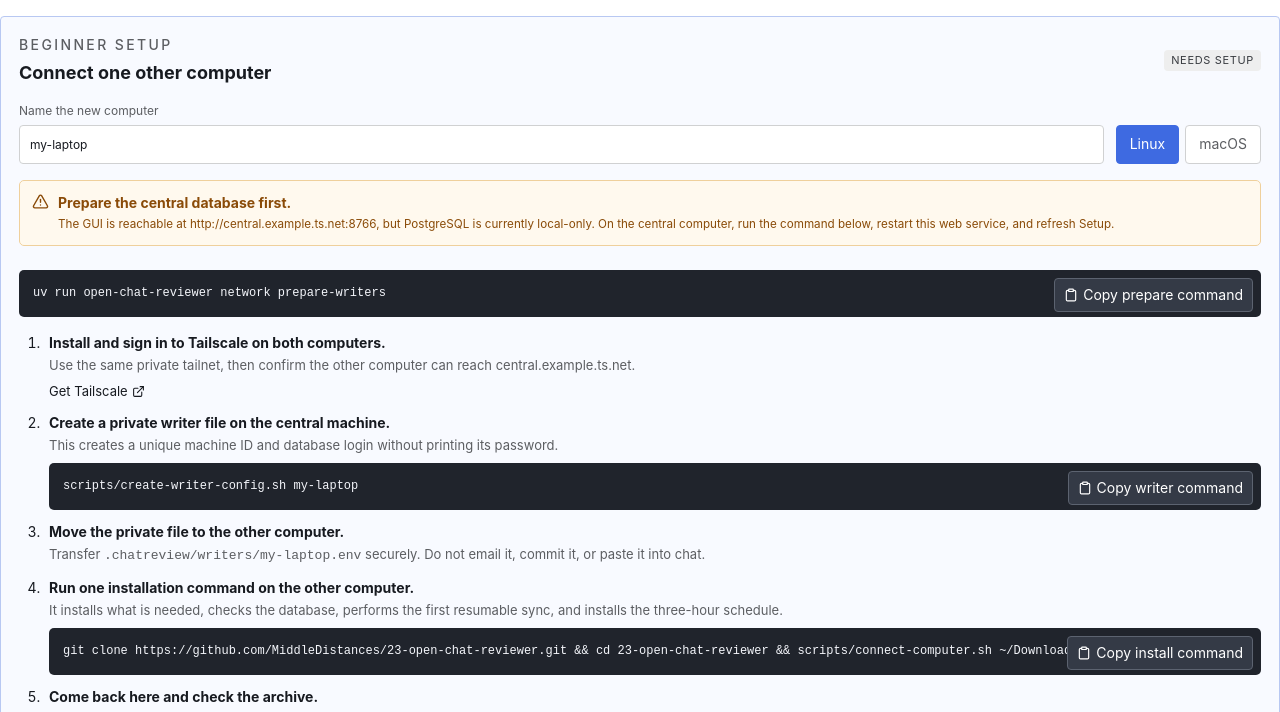
Test: multi-machine connection guide › builds one platform-specific writer command without putting credentials in it
Replace the text in the field labelled "Name the new computer" with "Studio Laptop": (561, 144) [19,125,1104,164]
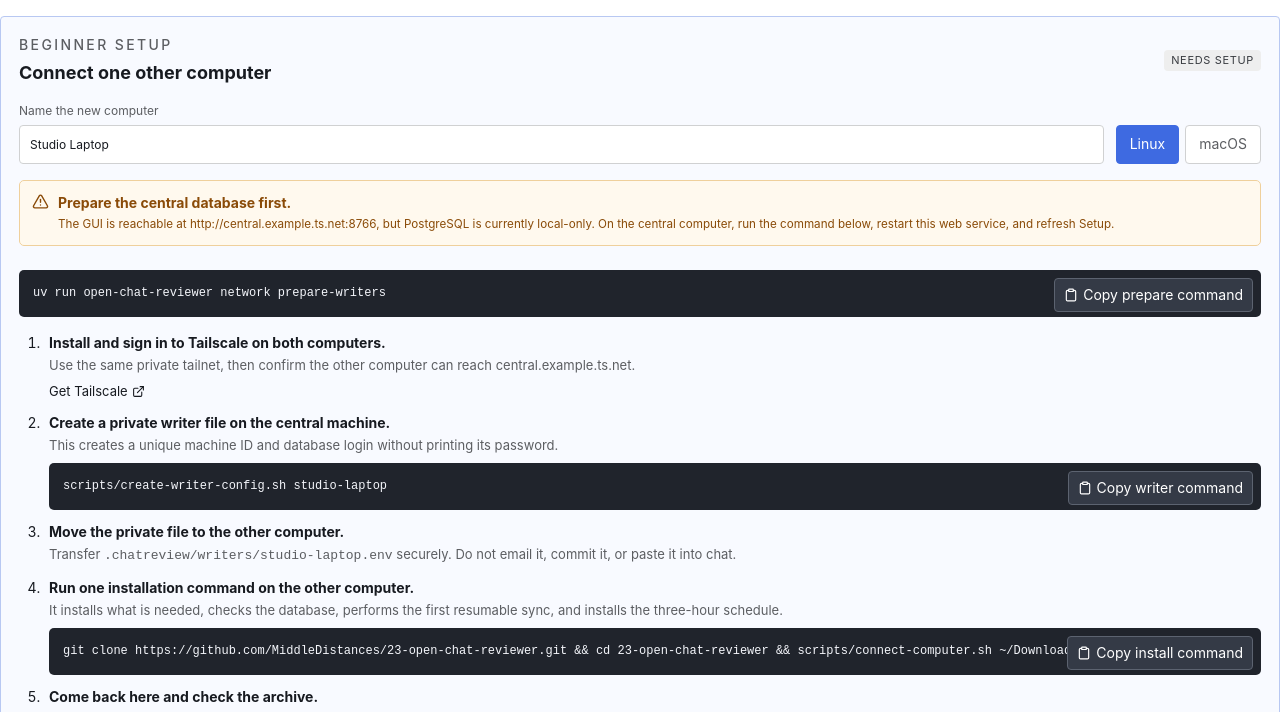
Click the button "macOS": (1223, 144) [1185,125,1261,164]
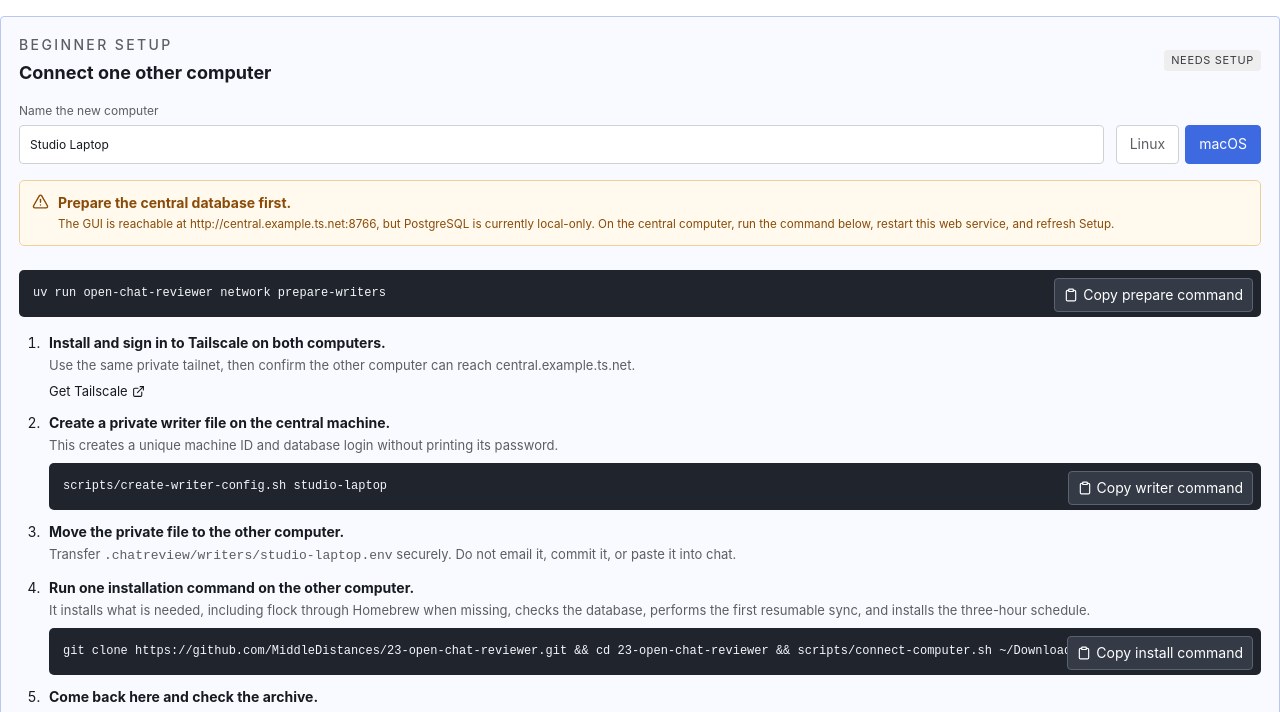
Expected: the text "scripts/connect-computer.sh ~/Downloads/studio-laptop.env" is shown, [63,644,1208,658]
Expected: the text "including flock through Homebrew" is shown, [200,602,508,618]
